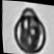correct: (6, 4, 52, 54)
